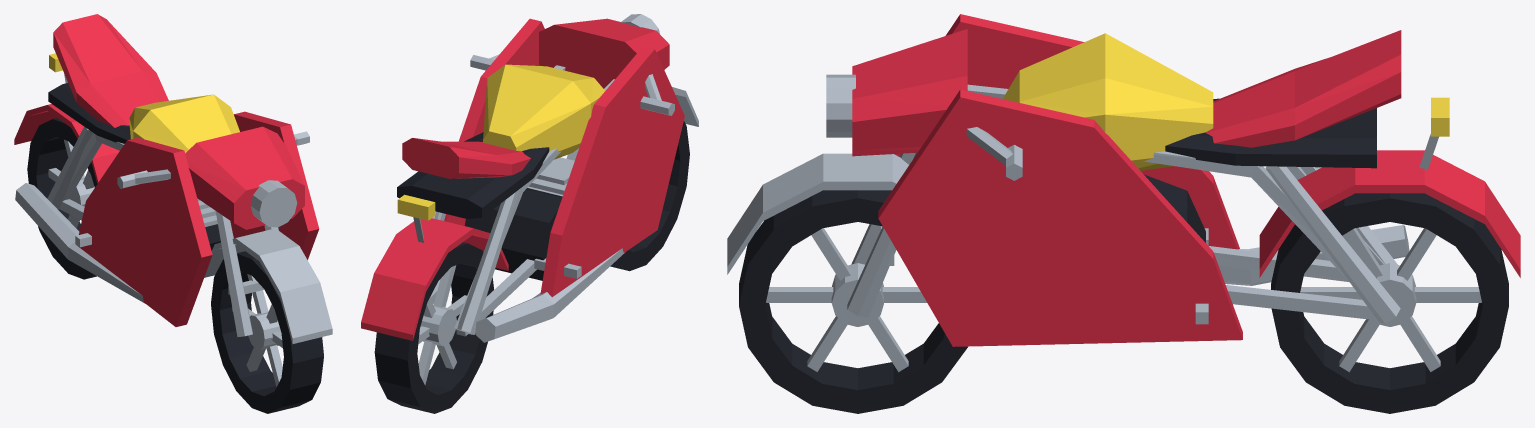
File: superbike-1000.glb
3 views of the same model, side by side, from view 1: azimuth 30°, elevation 25°; view 2: azimuth 150°, elevation 25°; view 3: azimuth 270°, elevation 25° (orthographic). The views are drawn at different scales.
Visible parts, largest first — view 1: bike_body, wheel_front, fork_mesh, wheel_rear; view 2: bike_body, wheel_rear, wheel_front, fork_mesh; view 3: bike_body, wheel_rear, wheel_front, fork_mesh.
Boxes of the visible parts, x1,y1,x2,y2 form: bike_body: (14,14,319,326); wheel_front: (211,251,323,413); fork_mesh: (117,131,332,344); wheel_rear: (27,118,97,279); bike_body: (361,14,684,342); wheel_rear: (374,242,493,413); wheel_front: (610,121,689,271); fork_mesh: (470,54,698,160); bike_body: (826,14,1520,346); wheel_rear: (1271,193,1508,413); wheel_front: (739,190,967,413); fork_mesh: (727,127,1022,317).
Bounding box in the file's own units: 0.84 × 1.07 × 2.13.
